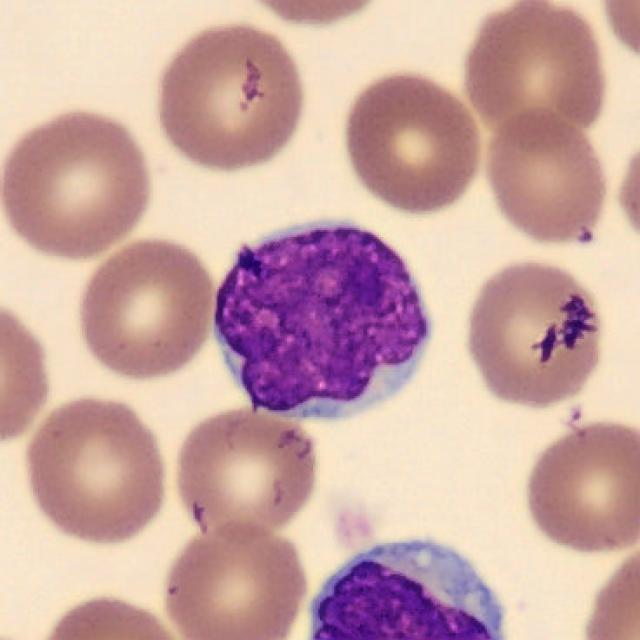Linfocito: (214, 228, 430, 422)
